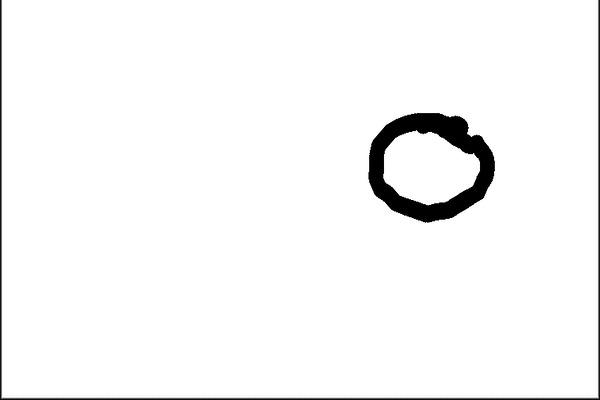O: (346, 104, 504, 231)
